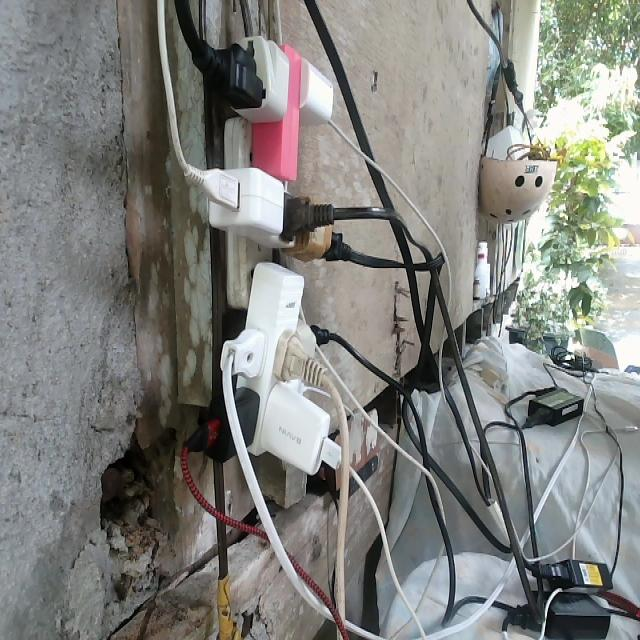-: (169, 36, 351, 475)
